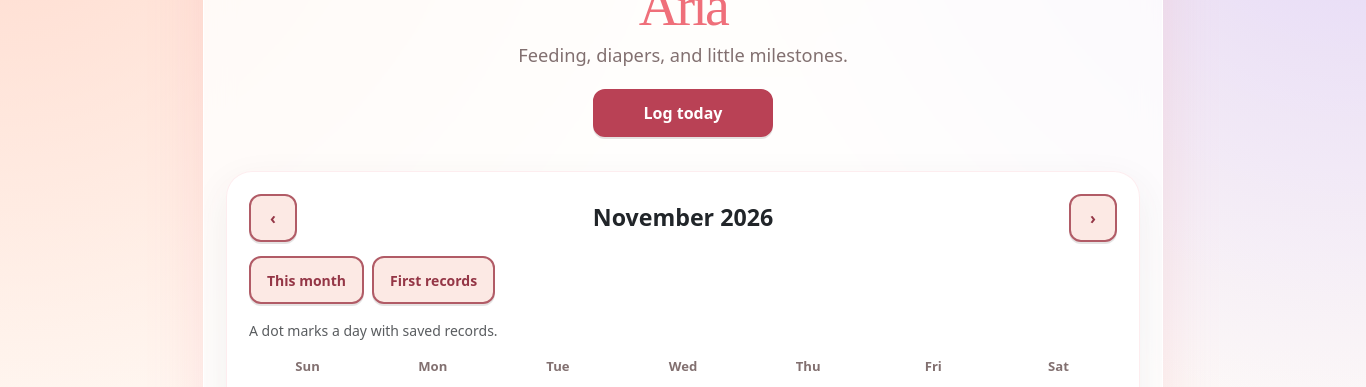
Scenario: First records opens historical month and marks dates with totals
This screenshot has width=1366, height=387.
Click the button "First records". click: (434,280)
box: [372, 256, 495, 304]
(page scrolled)
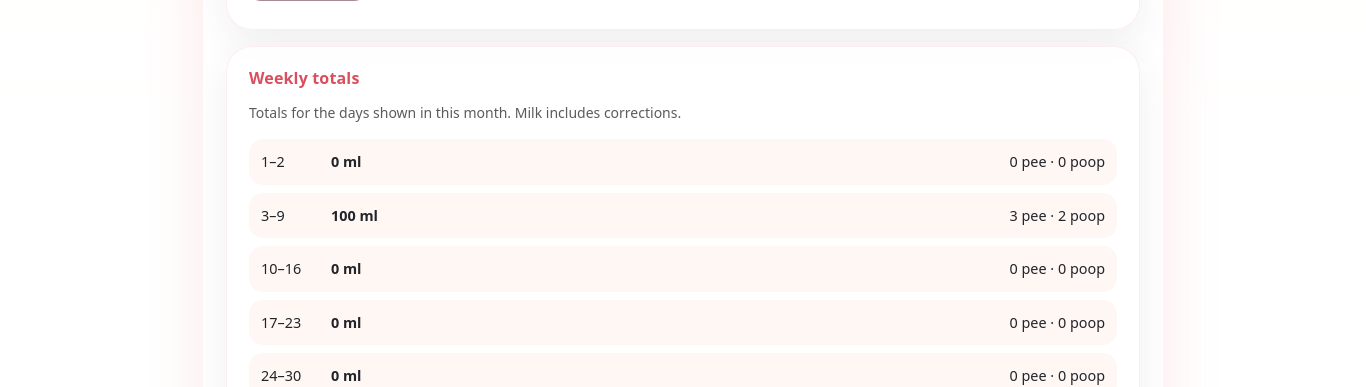
expect the text "100 ml" is shown: met, box [331, 206, 378, 224]
expect the text "3 pee · 2 poop" is shown: met, box [1010, 204, 1105, 226]
